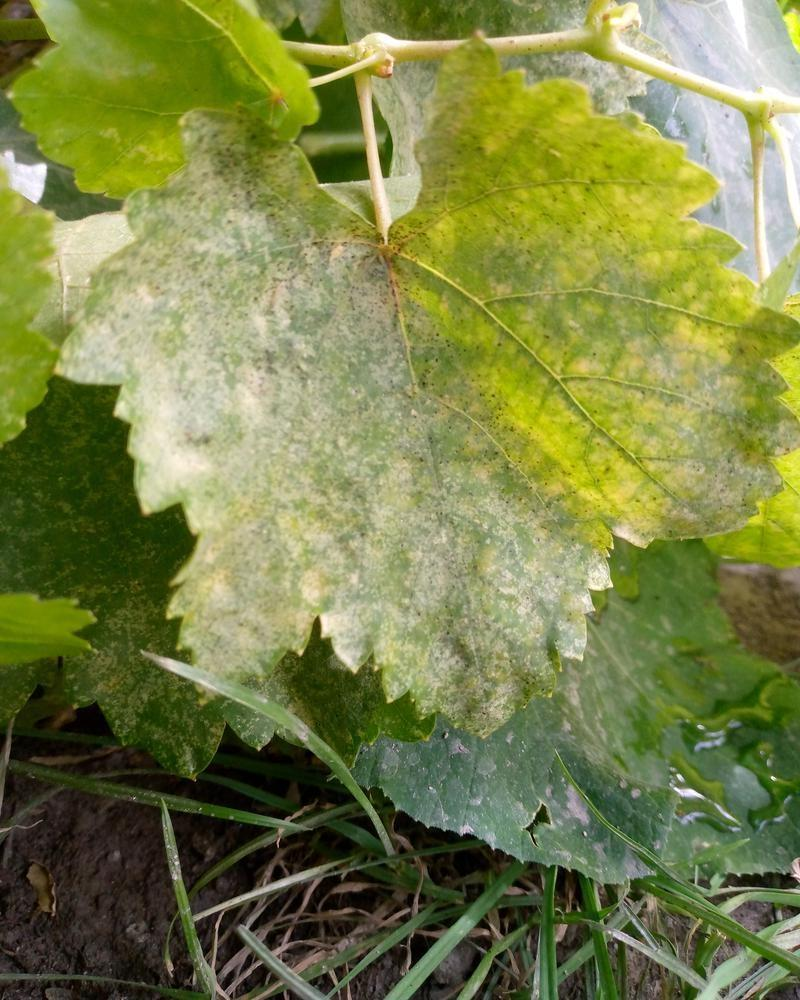Powdery-Mildew: (56, 114, 286, 527), (203, 423, 401, 681), (544, 176, 753, 358), (412, 450, 604, 636), (288, 240, 402, 423), (391, 621, 454, 684), (152, 324, 175, 342)
